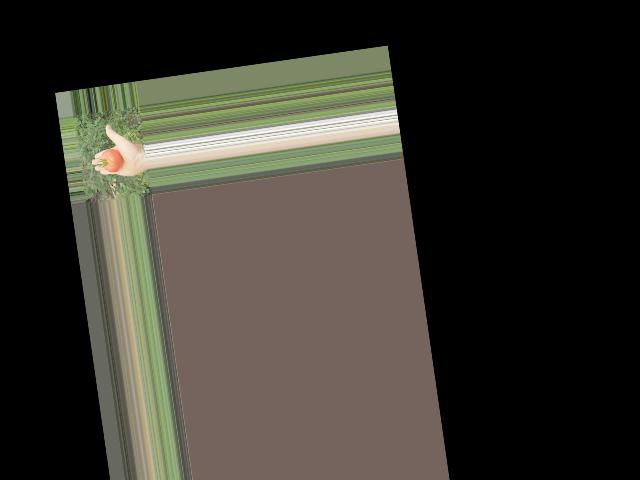tomato: (100, 147, 124, 174)
